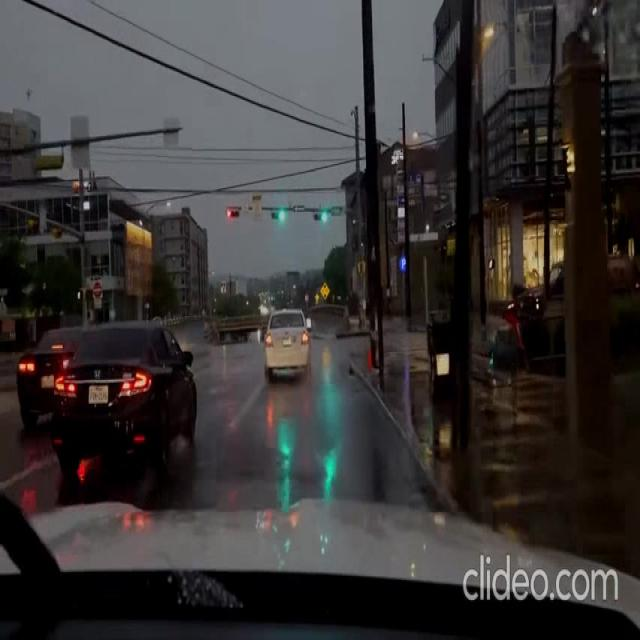Car: (50, 317, 195, 474), (15, 323, 90, 429), (262, 306, 310, 381)
